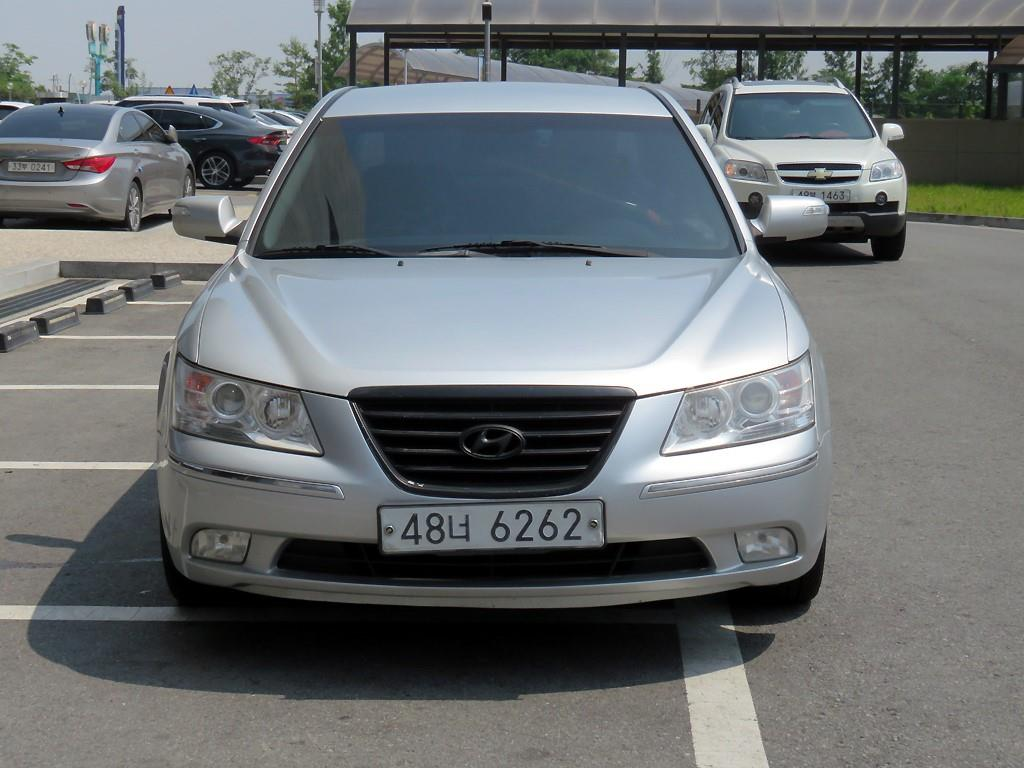plate: (379, 499, 603, 553)
